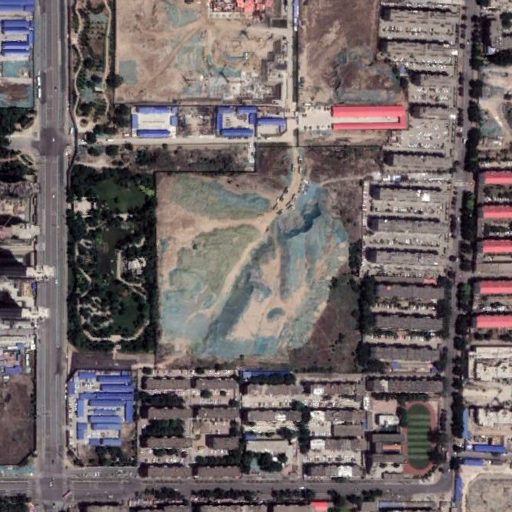cw: (152, 153, 352, 368), (110, 4, 254, 102), (330, 45, 404, 105)
